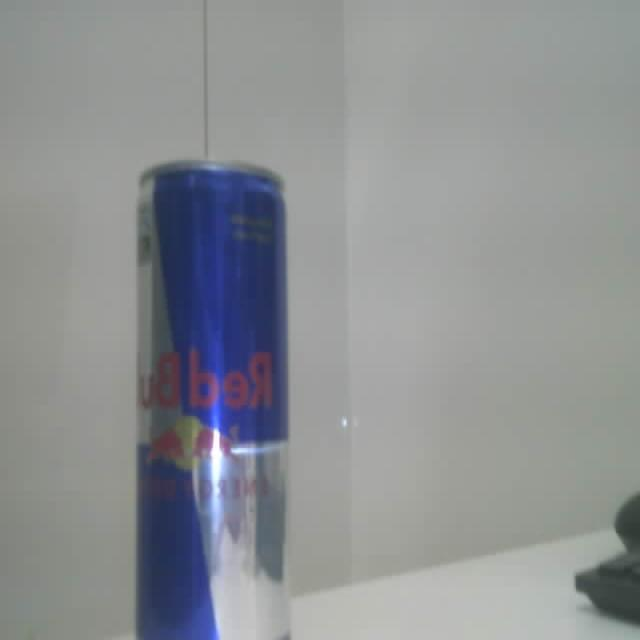redbull can: (137, 162, 288, 639)
